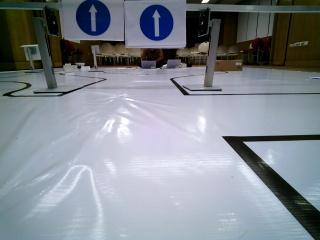straight: (125, 3, 185, 45), (69, 0, 124, 40)
